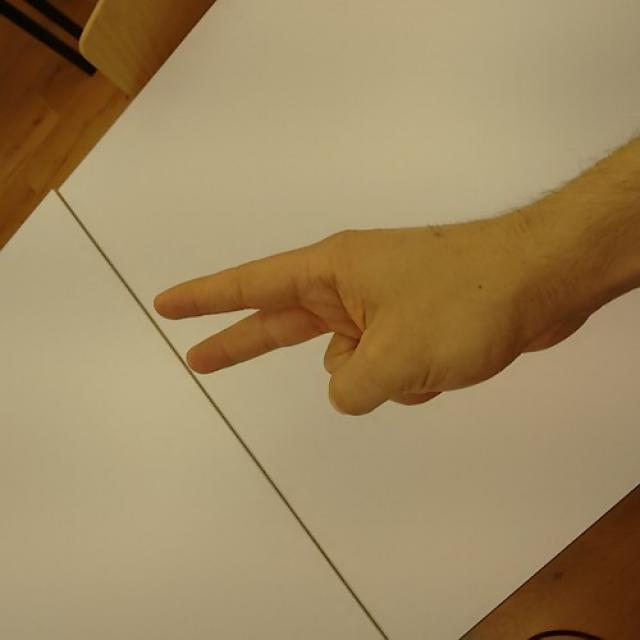scissors: (154, 226, 539, 422)
